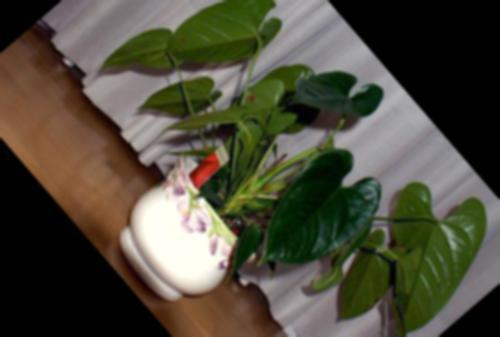Matera: (1, 0, 489, 337)
